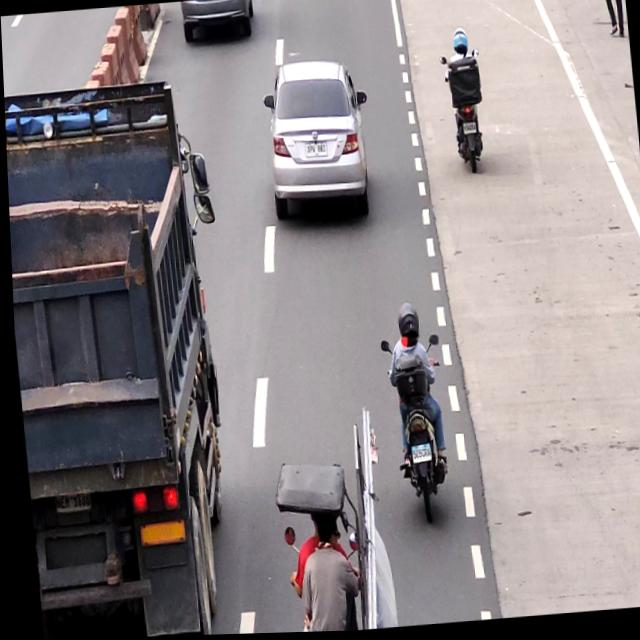Car: (264, 60, 375, 223)
License-Plate: (406, 448, 431, 467), (303, 140, 328, 158), (461, 124, 478, 138)
Motorcycle: (384, 302, 450, 532), (444, 31, 487, 172)
Tricycle: (259, 418, 390, 634)
Truck: (3, 77, 229, 640)
